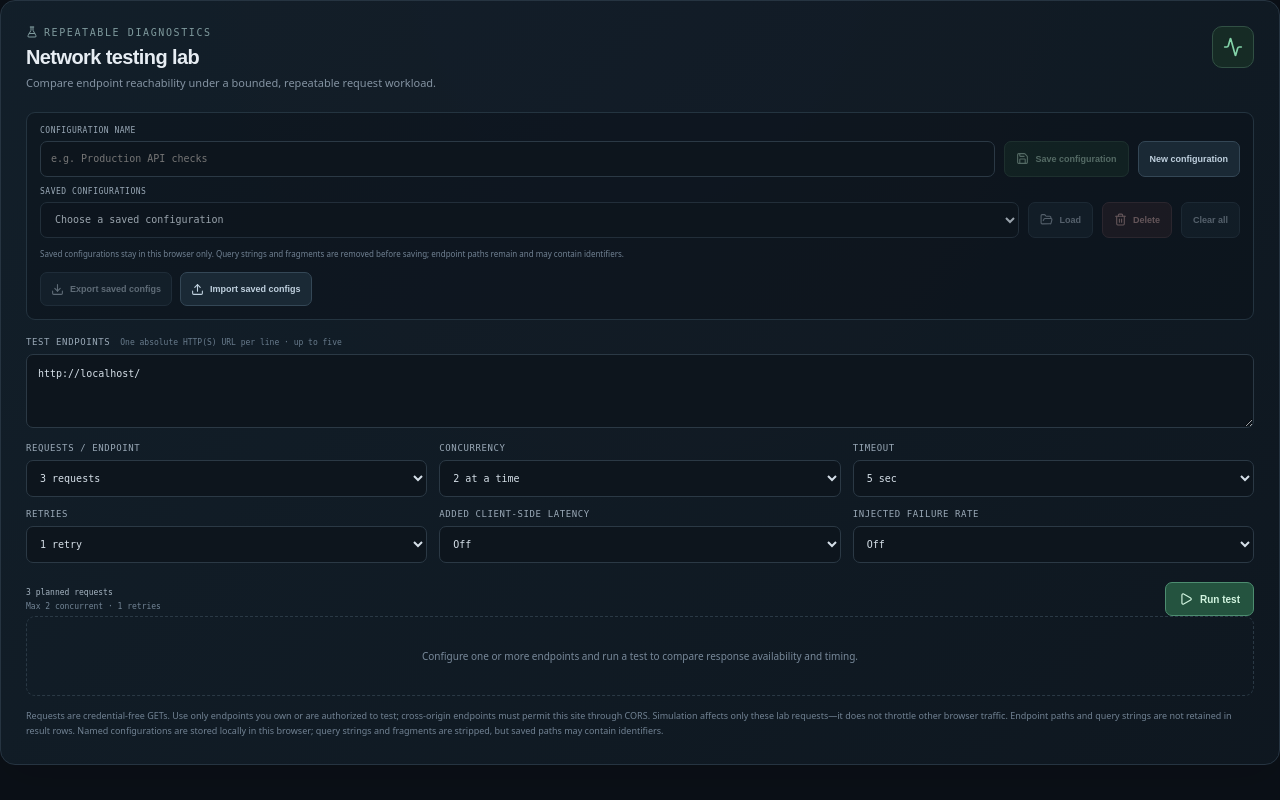
Test case: NetworkTestLab › runs the configured endpoint workload and renders a safe result summary
The width and height of the screenshot is (1280, 800).
Step 1. Replace the text in the text box labelled "Test endpoints" with "https://api.example.test/health?token=private-value" → coordinates (640, 391), box [26, 354, 1254, 428]
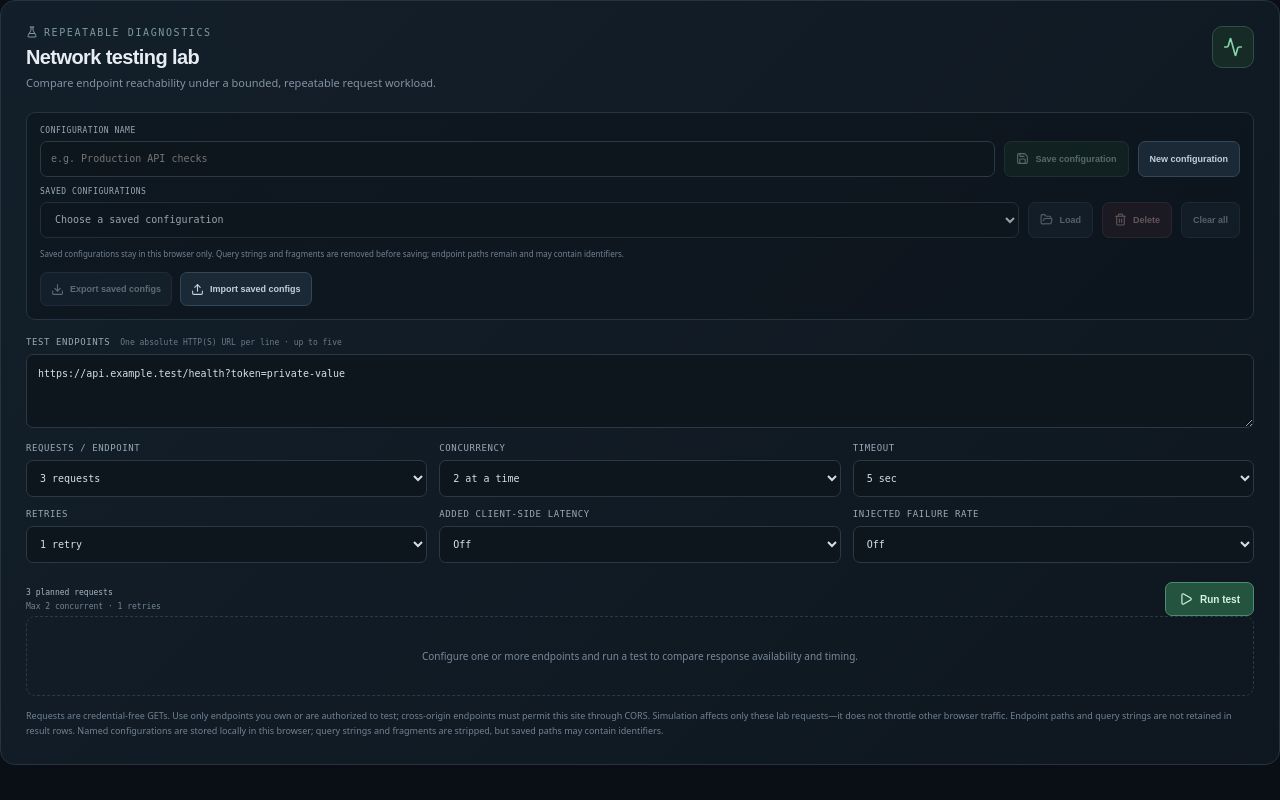
Step 2. Click the button "Run test" → coordinates (1210, 599), box [1165, 582, 1254, 616]
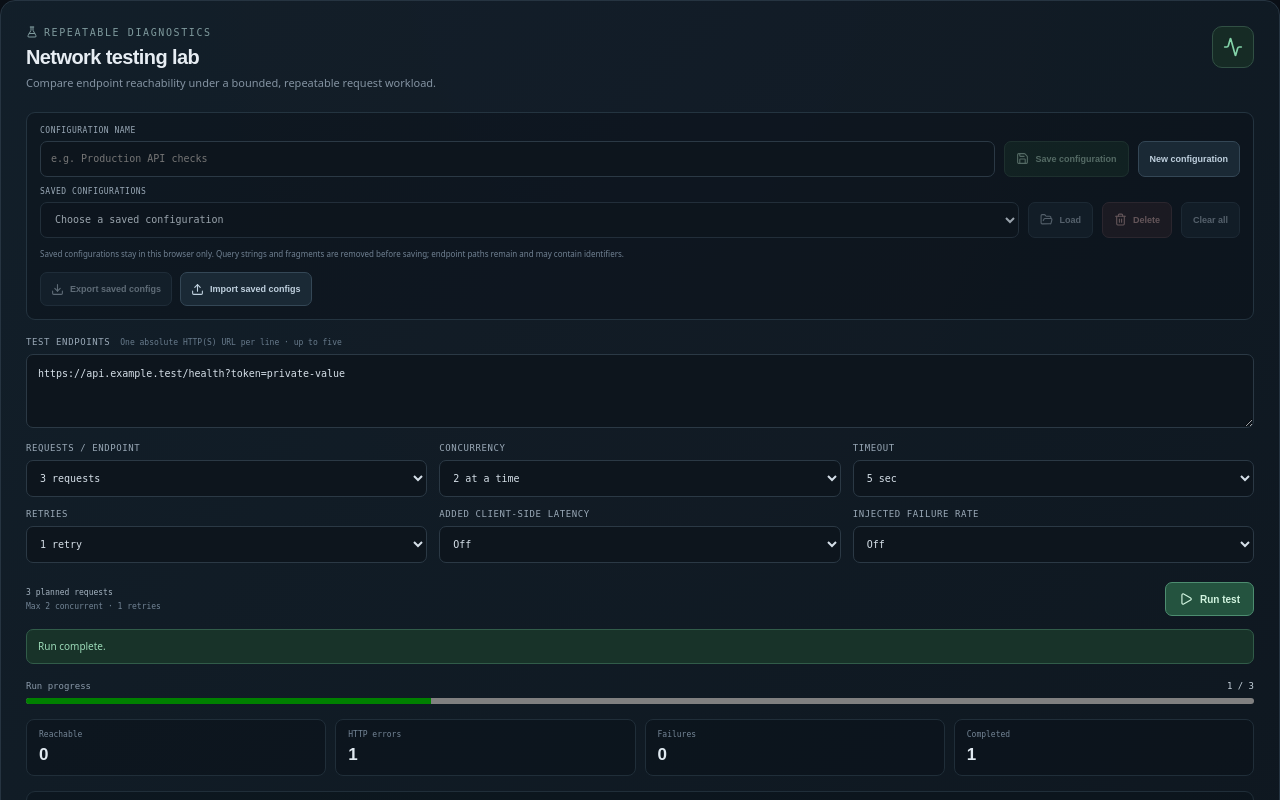
Now the text "Run complete." is shown, box [26, 629, 1254, 664]
